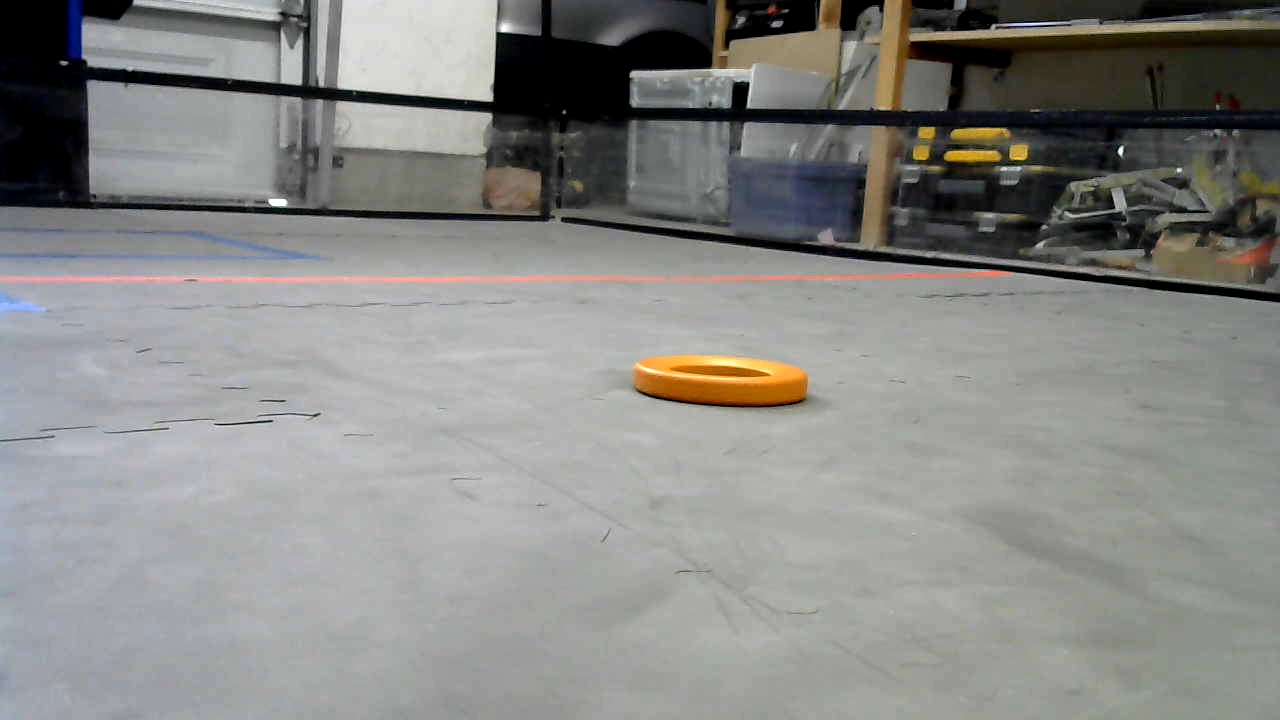OneStack: (633, 355, 808, 408)
